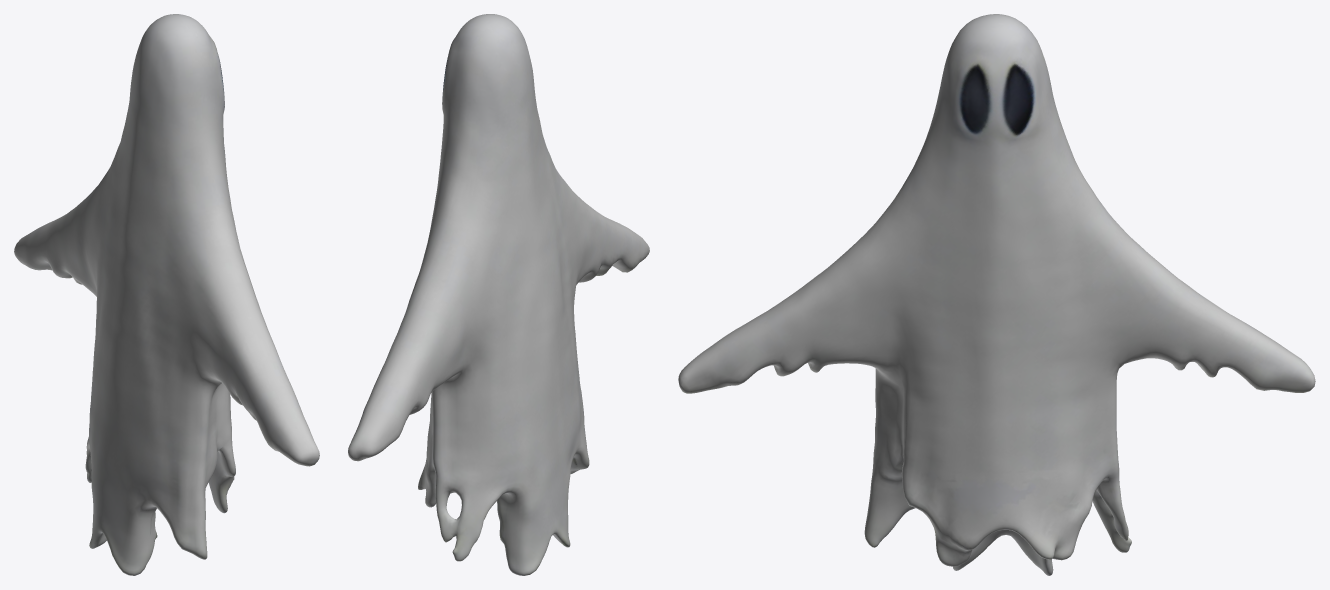
The model's file is ghost.glb.
3 views of the same model, side by side, from view 1: azimuth 30°, elevation 25°; view 2: azimuth 150°, elevation 25°; view 3: azimuth 270°, elevation 25° (orthographic). The views are drawn at different scales.
Parts seen in each view (by area): view 1: mesh_base_material_0; view 2: mesh_base_material_0; view 3: mesh_base_material_0.
Boxes of the visible parts, left/top/right/bottom form: mesh_base_material_0: left=14, top=14, right=319, bottom=575; mesh_base_material_0: left=348, top=14, right=649, bottom=575; mesh_base_material_0: left=678, top=14, right=1315, bottom=575.
Size of the model in its own units: 0.2335 by 0.9985 by 0.9834.
Materials: 1 (1 with a texture image).
